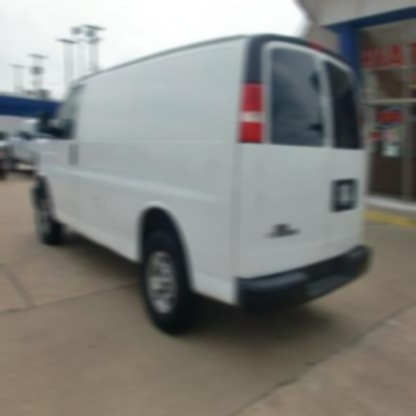Vehicle: (34, 35, 371, 335)
